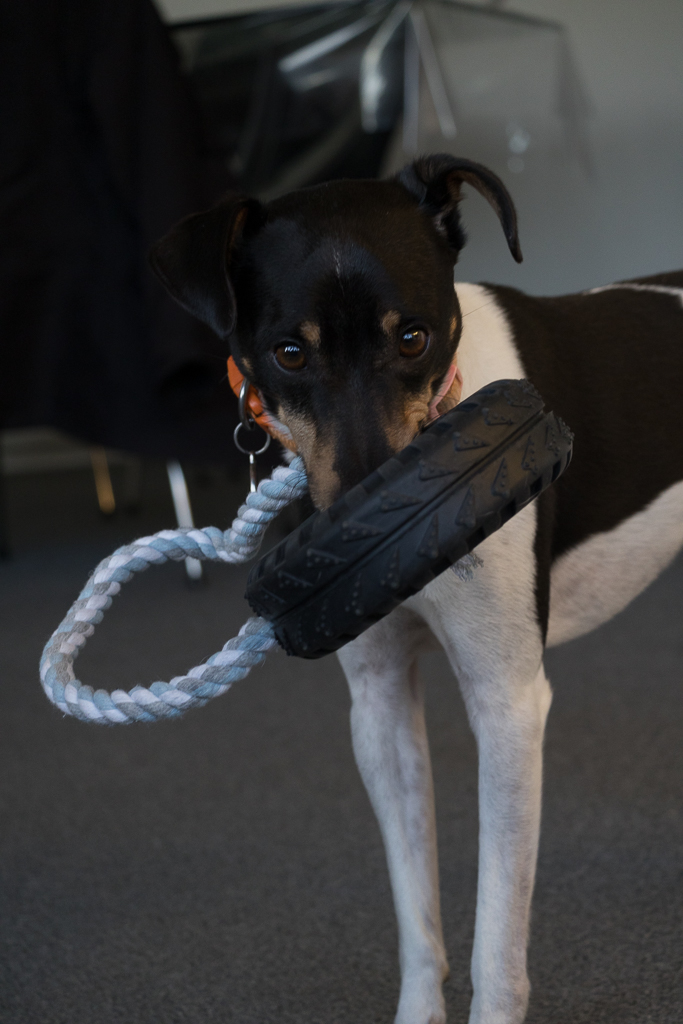Dog: (138, 144, 683, 1024)
